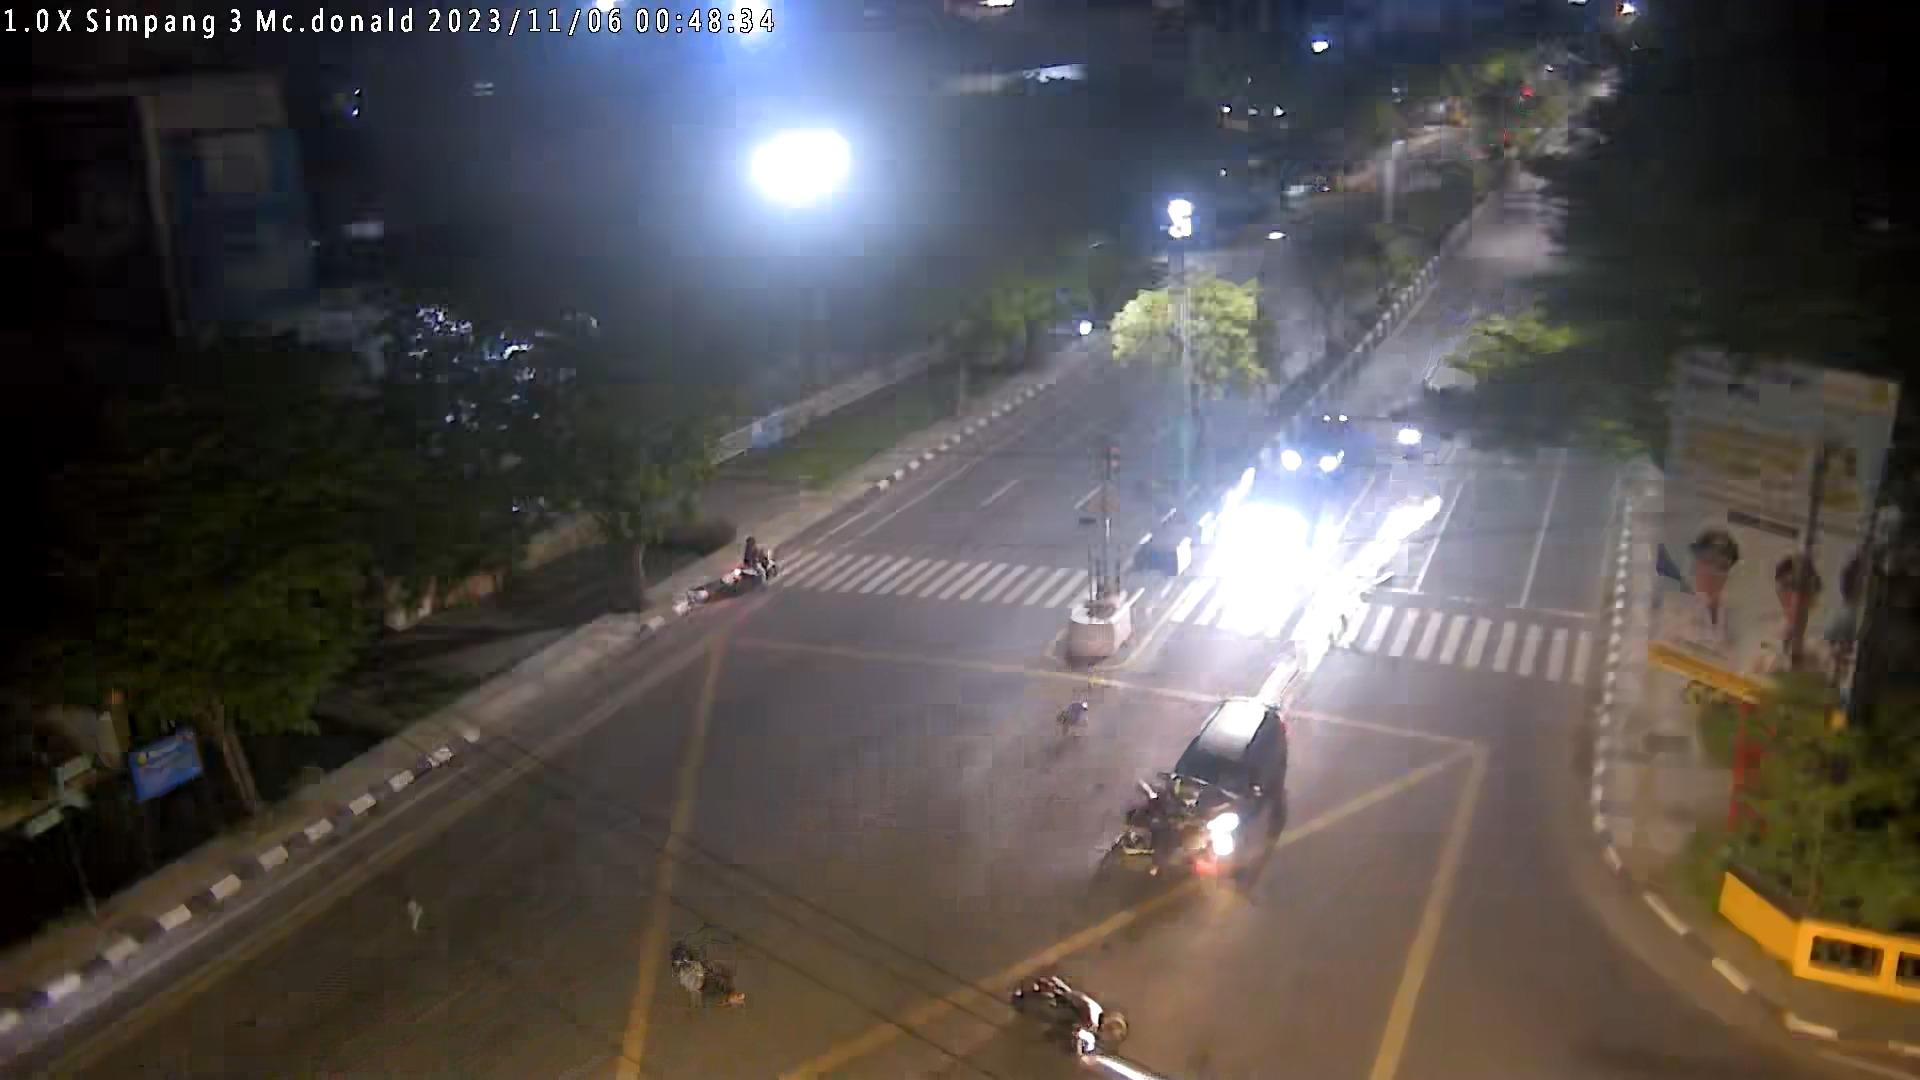accident: (671, 945, 746, 1009)
